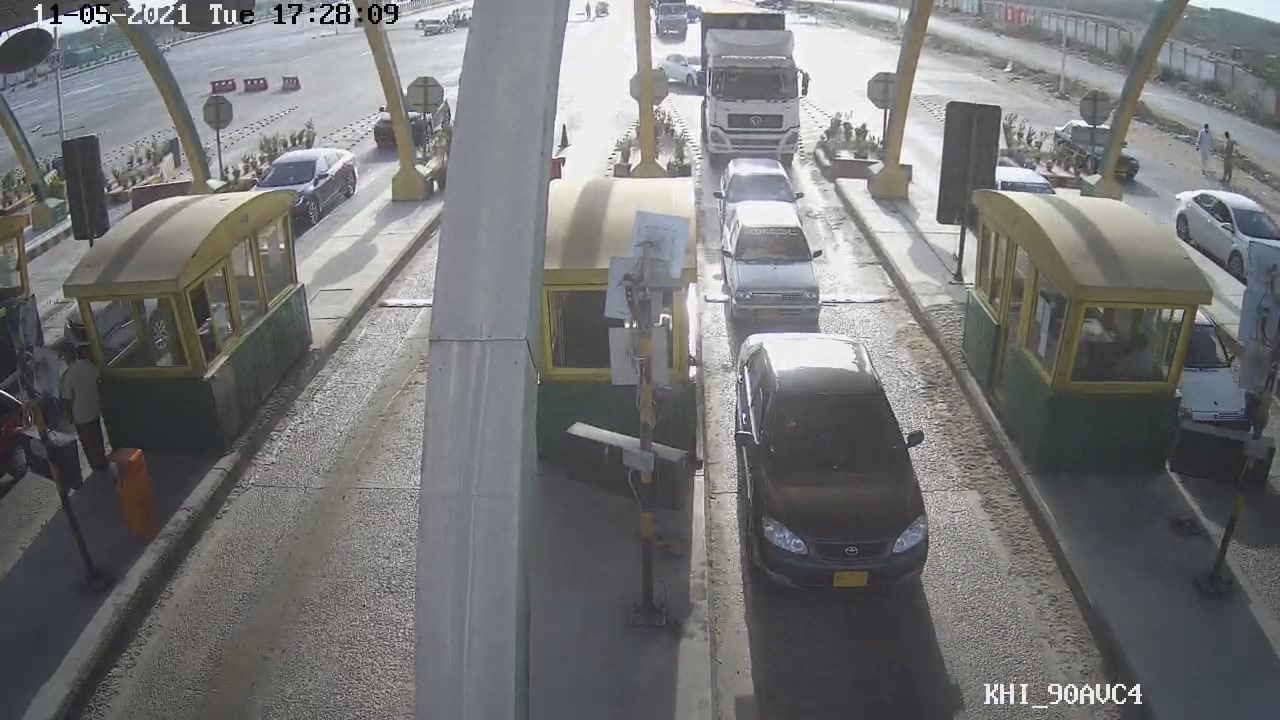F1: (732, 328, 950, 603)
